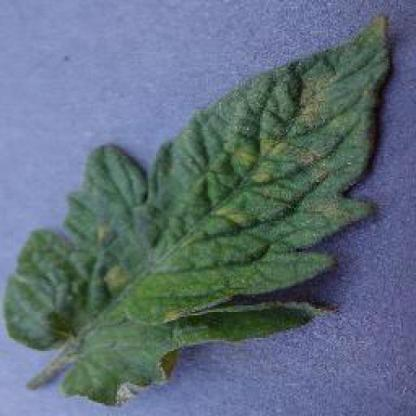Tomato_Leaf_Mold: (6, 11, 392, 405)
